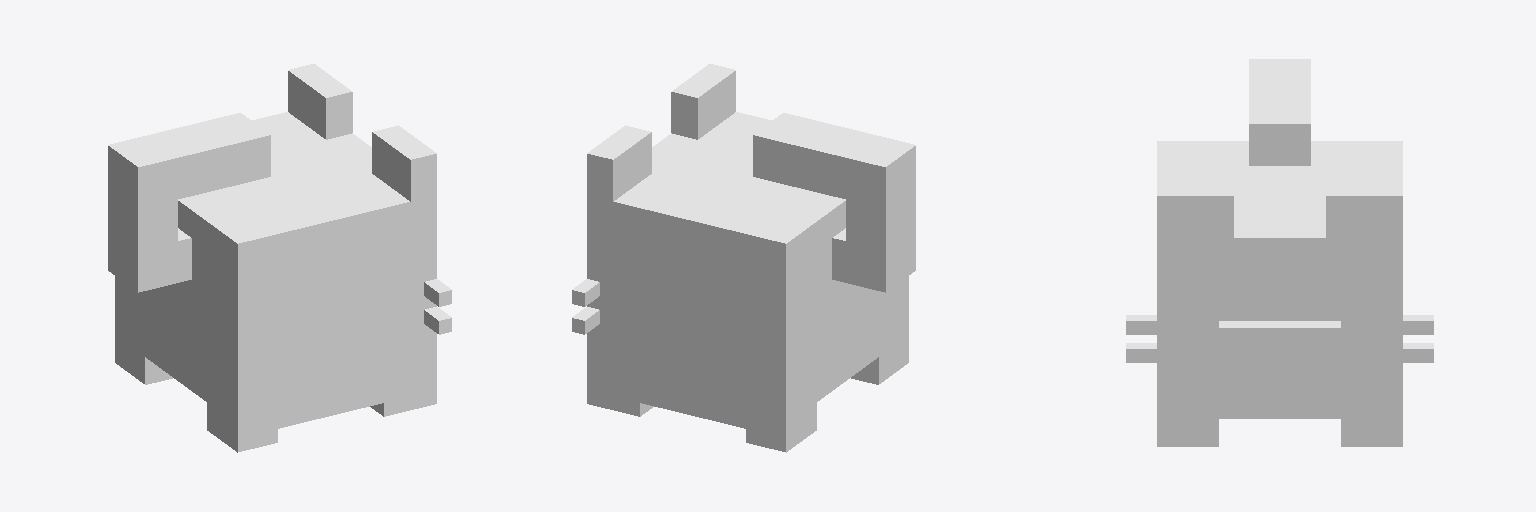
Rendered from BadCat.obj.
The picture shows the model from 3 angles: view 1: azimuth 30°, elevation 25°; view 2: azimuth 150°, elevation 25°; view 3: azimuth 270°, elevation 25°; orthographic projection.
Parts seen in each view (by area): view 1: object 1; view 2: object 1; view 3: object 1.
Boxes of the visible parts, <box> form: object 1: <box>108,64,451,452</box>; object 1: <box>572,64,915,452</box>; object 1: <box>1126,59,1433,446</box>.
Bounding box in the file's own units: 10 × 9.5 × 10.